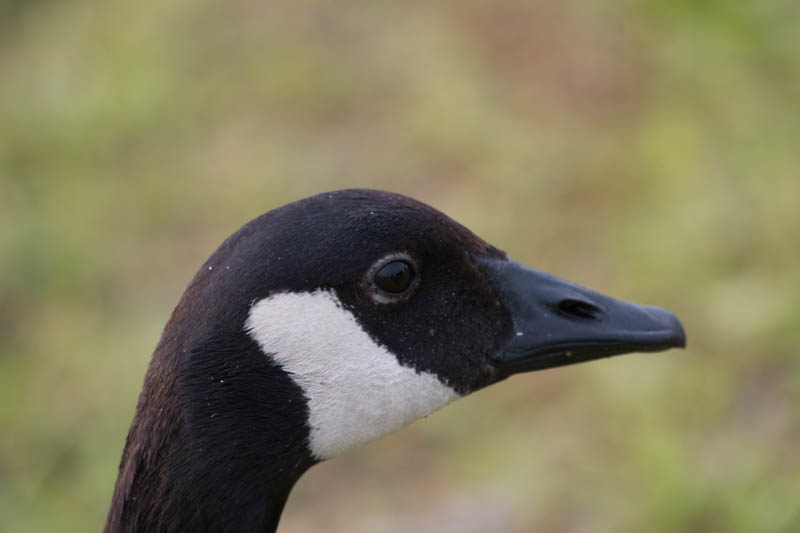goose-head: (158, 186, 687, 463)
